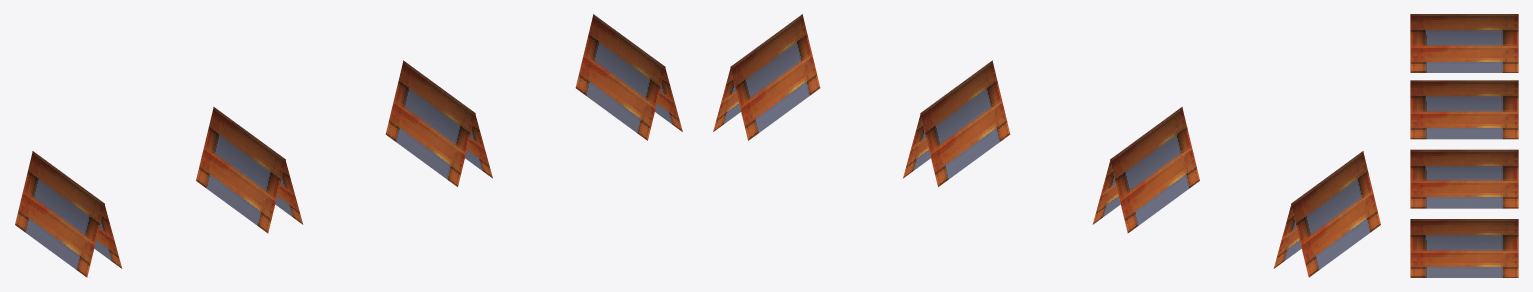
The picture shows the model from 3 angles, left to right: view 1: azimuth 30°, elevation 25°; view 2: azimuth 150°, elevation 25°; view 3: azimuth 270°, elevation 25°; orthographic projection. The views are drawn at different scales.
Visible parts, largest first — view 1: Plane20; view 2: Plane20; view 3: Plane20.
Boxes of the visible parts, <box> form: Plane20: <box>15,14,682,277</box>; Plane20: <box>713,14,1380,277</box>; Plane20: <box>1410,14,1518,277</box>.
Bounding box in the file's own units: 846 × 94.58 × 178.
Materials: 1 (1 with a texture image).
